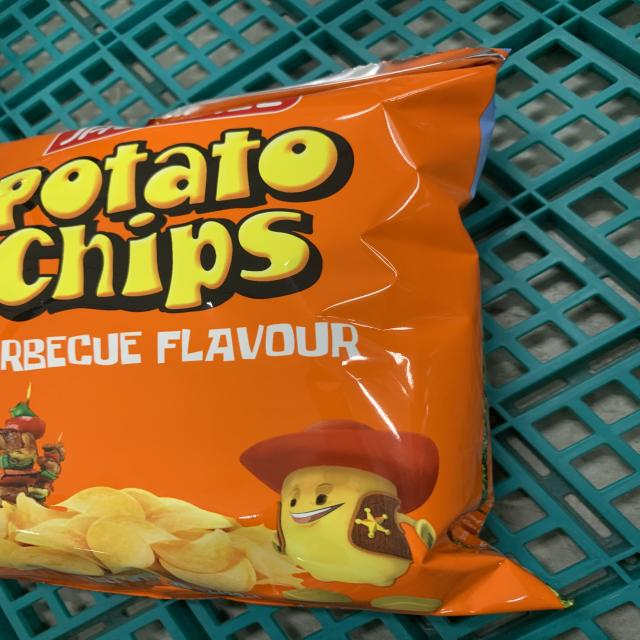object_name: (9, 127, 479, 588)
